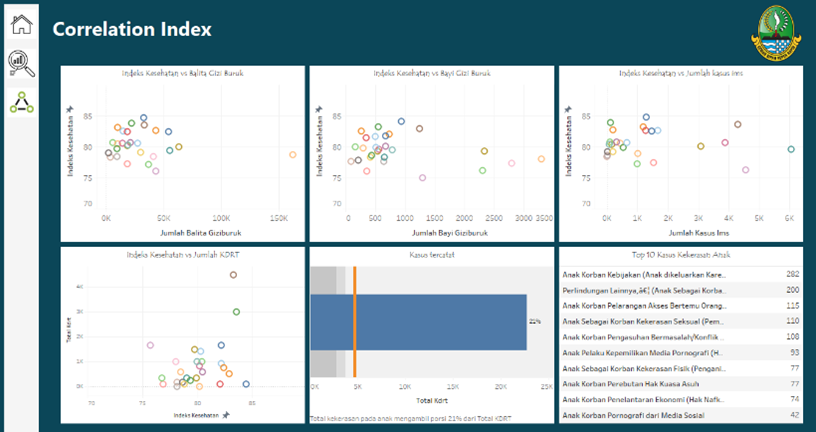

This screenshot's page, from the dashboard's own definition file:
{"tool":"tableau","page":{"name":"Correlation Index","canvas":[1000,1000],"units":"permille","ordinal":0},"visuals":[{"type":"image","param":"Image/Logo-propinsi-jawa-barat.png","box":[906.5,23.7,75.3,126.7]},{"type":"dashboard-object","box":[14.5,27,51.6,86.2]},{"type":"text","box":[80.6,27,781.7,131.8]},{"type":"blank","box":[862.3,27,123.2,131.8]},{"type":"dashboard-object","box":[14.5,113.2,51.6,86.1]},{"type":"worksheet","title":"Indeks Kesehatan vs Balita Gizi Buruk","mark":"Automatic","rows":["Calculation_802766682274967552"],"cols":["jumlah_balita_giziburuk"],"box":[77,153.7,300.7,405.4]},{"type":"worksheet","title":"Indeks Kesehatan vs Bayi Gizi Buruk","mark":"Automatic","rows":["Calculation_802766682274967552"],"cols":["jumlah_bayi_giziburuk"],"box":[377.7,153.7,300.7,405.4]},{"type":"worksheet","title":"Indeks Kesehatan vs Jumlah kasus ims","mark":"Automatic","rows":["Calculation_802766682274967552"],"cols":["jumlah_kasus_ims"],"box":[678.4,153.7,300.7,405.4]},{"type":"dashboard-object","box":[14.5,199.3,51.6,86.2]},{"type":"blank","box":[14.5,285.5,51.6,86.2]},{"type":"blank","box":[14.5,371.6,51.6,86.2]},{"type":"blank","box":[14.5,457.8,51.6,86.2]},{"type":"blank","box":[14.5,543.9,51.6,86.2]},{"type":"worksheet","title":"Indeks Kesehatan vs Jumlah KDRT","mark":"Automatic","rows":["total_kdrt"],"cols":["Calculation_802766682274967552"],"box":[77,559.1,300.7,403.7]},{"type":"worksheet","title":"Kasus tercatat","mark":"Automatic","cols":["total_kdrt"],"box":[377.7,559.1,300.7,403.7]},{"type":"worksheet","title":"Top 10 Kasus Kekerasan Anak","mark":"Automatic","rows":["KASUS PERLINDUNGAN ANAK"],"box":[678.4,559.1,300.7,403.7]},{"type":"blank","box":[14.5,630.1,51.6,86.2]},{"type":"blank","box":[14.5,716.2,51.6,86.1]},{"type":"blank","box":[14.5,802.4,51.6,86.2]},{"type":"blank","box":[14.5,888.5,51.6,84.5]}]}

Visuals, with their boxes on the dashboard's canvas, which has no fixed pixel size, in thousandths of its width and height (x1, y1, x2, y2). These are canvas units, not pixel positions in the 816x432 screenshot, which may show the page scaled, cropped or inside an application window:
image: locate(906, 24, 982, 150)
dashboard-object: locate(14, 27, 66, 113)
text: locate(81, 27, 862, 159)
blank: locate(862, 27, 986, 159)
dashboard-object: locate(14, 113, 66, 199)
"Indeks Kesehatan vs Balita Gizi Buruk" worksheet: locate(77, 154, 378, 559)
"Indeks Kesehatan vs Bayi Gizi Buruk" worksheet: locate(378, 154, 678, 559)
"Indeks Kesehatan vs Jumlah kasus ims" worksheet: locate(678, 154, 979, 559)
dashboard-object: locate(14, 199, 66, 286)
blank: locate(14, 286, 66, 372)
blank: locate(14, 372, 66, 458)
blank: locate(14, 458, 66, 544)
blank: locate(14, 544, 66, 630)
"Indeks Kesehatan vs Jumlah KDRT" worksheet: locate(77, 559, 378, 963)
"Kasus tercatat" worksheet: locate(378, 559, 678, 963)
"Top 10 Kasus Kekerasan Anak" worksheet: locate(678, 559, 979, 963)
blank: locate(14, 630, 66, 716)
blank: locate(14, 716, 66, 802)
blank: locate(14, 802, 66, 889)
blank: locate(14, 888, 66, 973)
